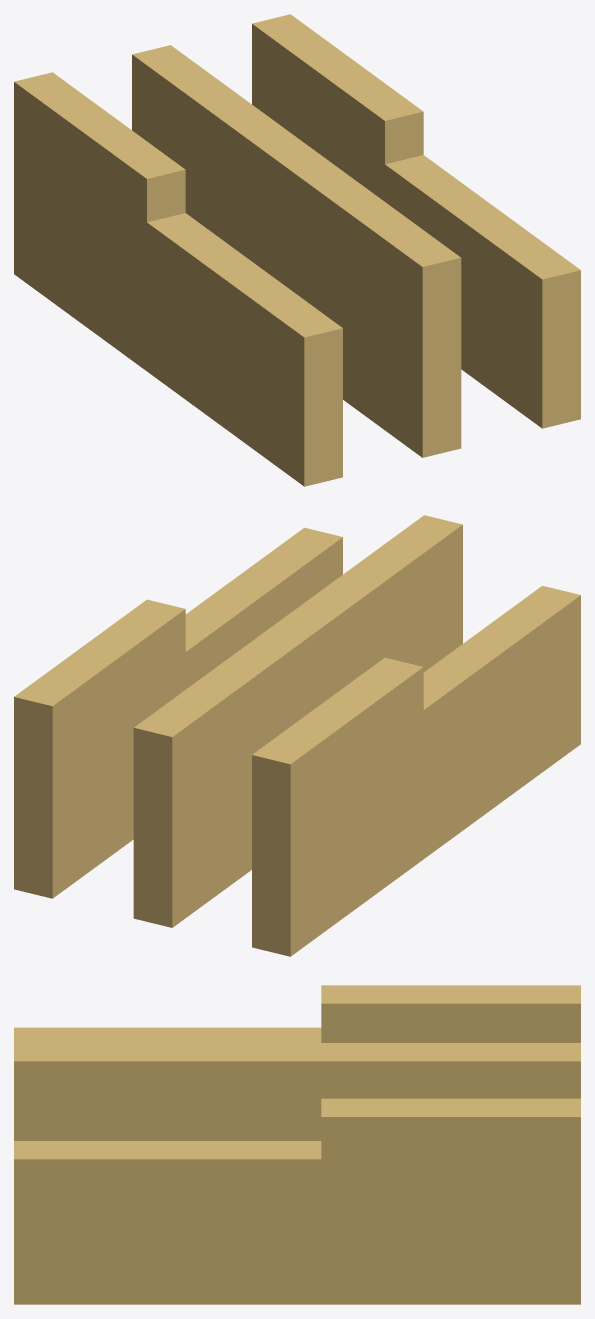
File: bar screen.fbx
3 views of the same model, one above another, from view 1: azimuth 30°, elevation 25°; view 2: azimuth 150°, elevation 25°; view 3: azimuth 270°, elevation 25° (orthographic). The views are drawn at different scales.
Parts seen in each view (by area): view 1: bar_screen1; view 2: bar_screen1; view 3: bar_screen1.
Part boxes in pixels (x1,y1,x2,y2): bar_screen1: (14, 14, 580, 486); bar_screen1: (14, 515, 580, 956); bar_screen1: (14, 985, 580, 1304).
Bounding box in the file's own units: 3.35 × 2.23 × 6.1.
